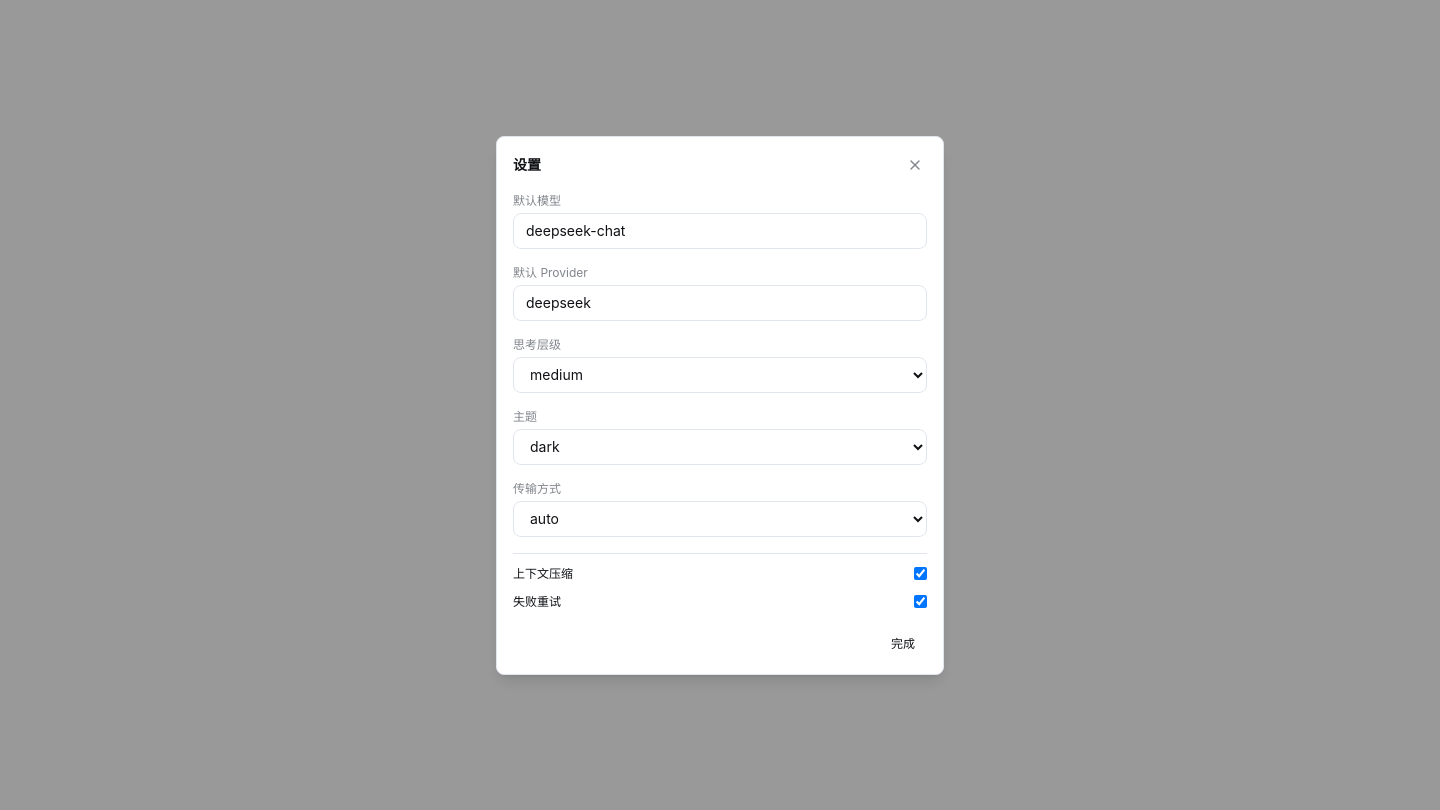
Test case: SettingsPanel › 保存失败时显示错误提示
What coordinates should you click on to do the following:
click the checkbox labelled "上下文压缩"
I would click on:
 (920, 574)
Its box is [914,567,927,580].
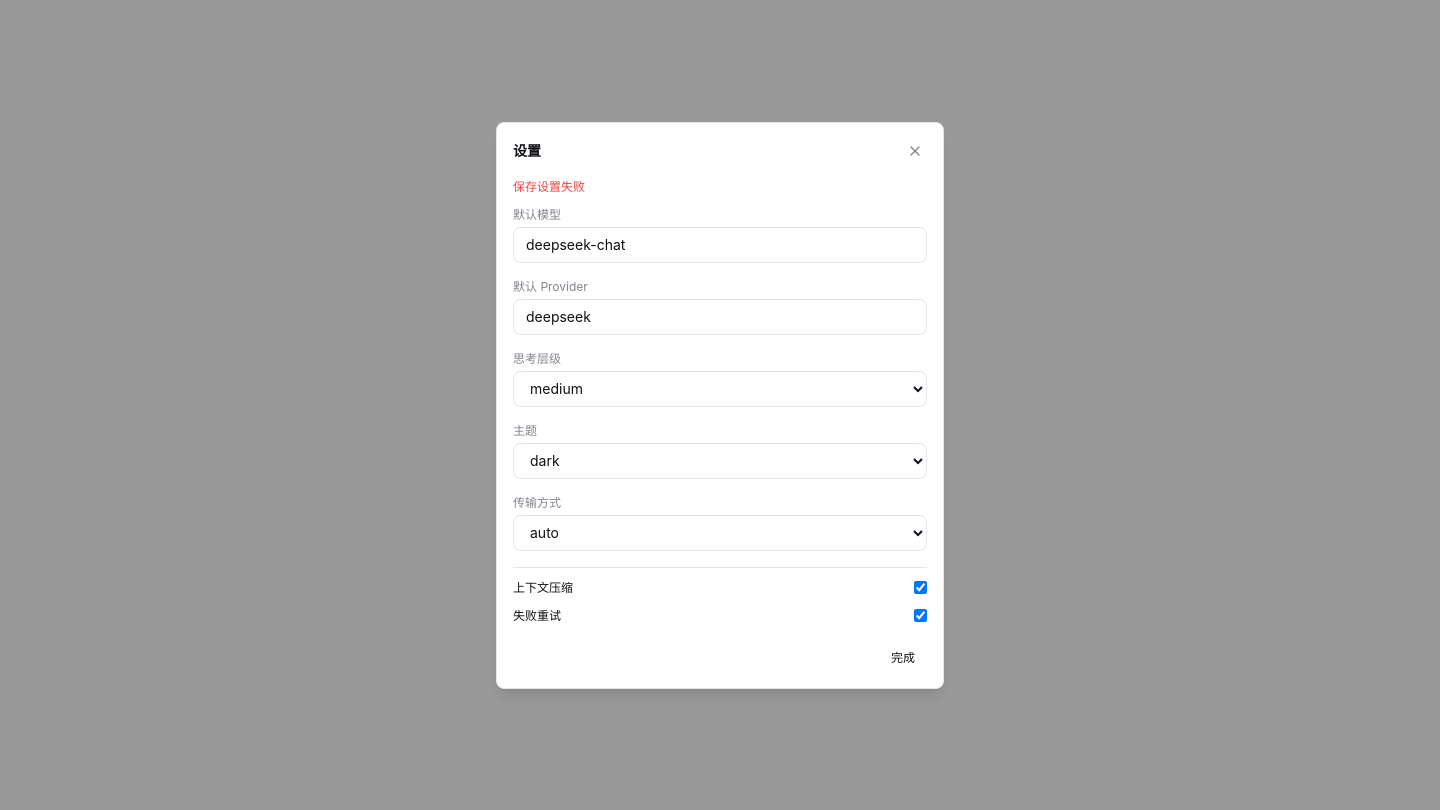
Expected: the text "保存设置失败" is shown, [513,178,585,194]
